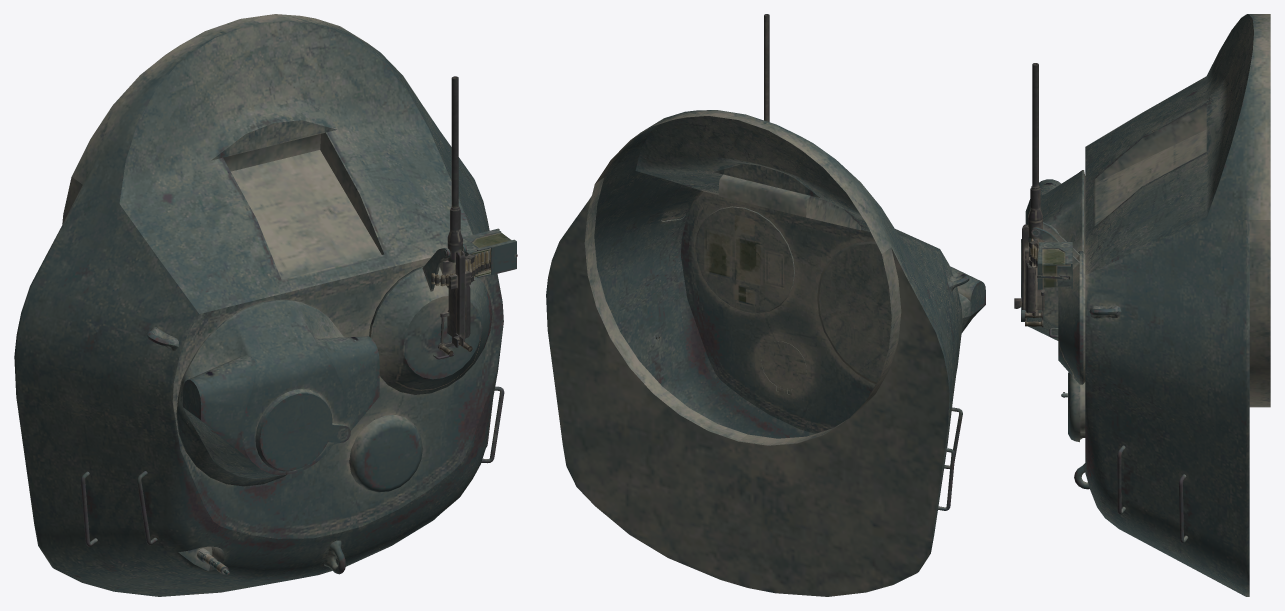
The model's file is Turret_01.glb.
3 views of the same model, side by side, from view 1: azimuth 30°, elevation 25°; view 2: azimuth 150°, elevation 25°; view 3: azimuth 270°, elevation 25° (orthographic). The views are drawn at different scales.
Visible parts, largest first — view 1: set_0_group_0; view 2: set_0_group_0; view 3: set_0_group_0.
Part boxes in pixels (x1,y1,x2,y2): set_0_group_0: (14, 14, 517, 596); set_0_group_0: (546, 14, 985, 596); set_0_group_0: (1014, 14, 1270, 596).
Bounding box in the file's own units: 3.28 × 3.76 × 1.63.
Materials: 1 (1 with a texture image).
